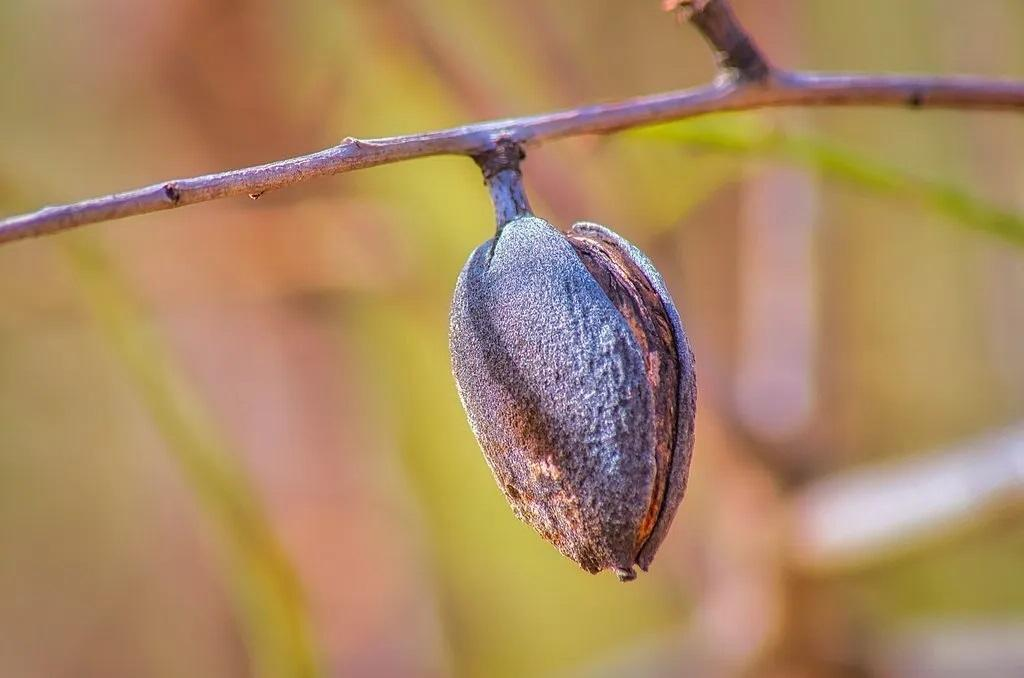mummified_fruits: (450, 183, 695, 580)
